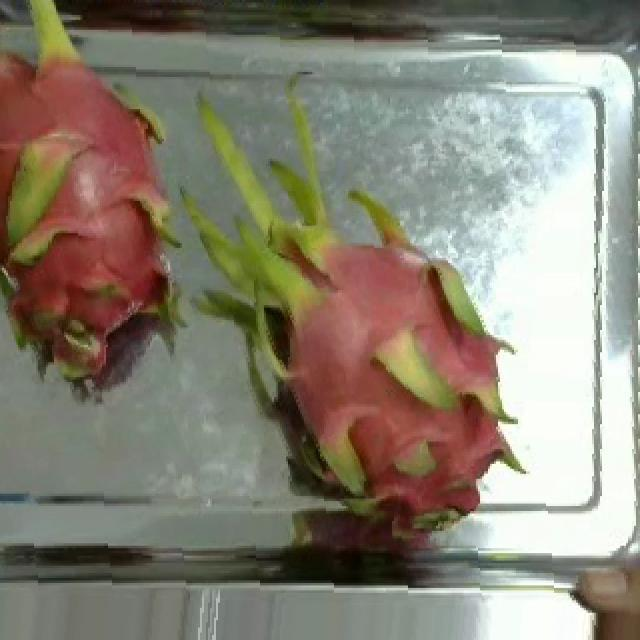Fruit: (564, 528, 640, 640)
